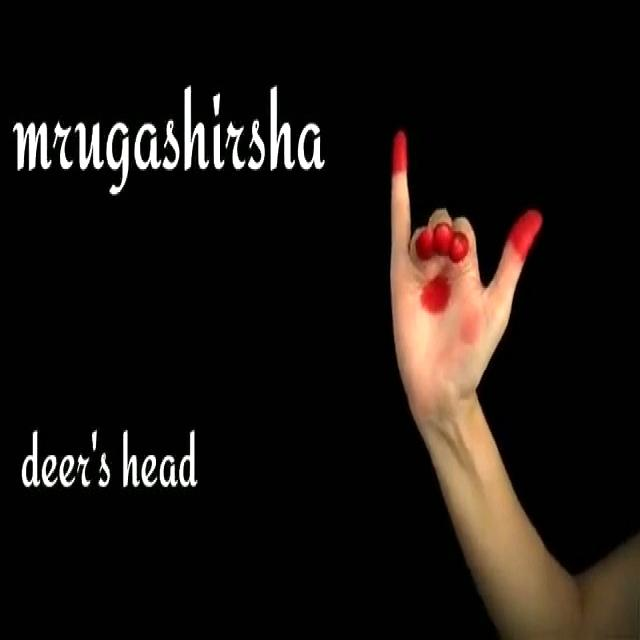Mrigashirsha: (364, 107, 562, 439)
text: (10, 76, 331, 204), (13, 403, 210, 511)
